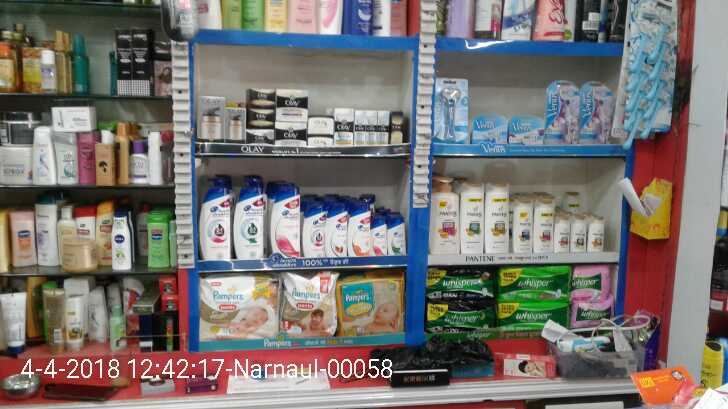venus: (621, 21, 678, 151), (433, 79, 469, 143), (544, 78, 578, 144), (579, 79, 612, 147), (472, 113, 509, 146), (512, 114, 544, 144)
